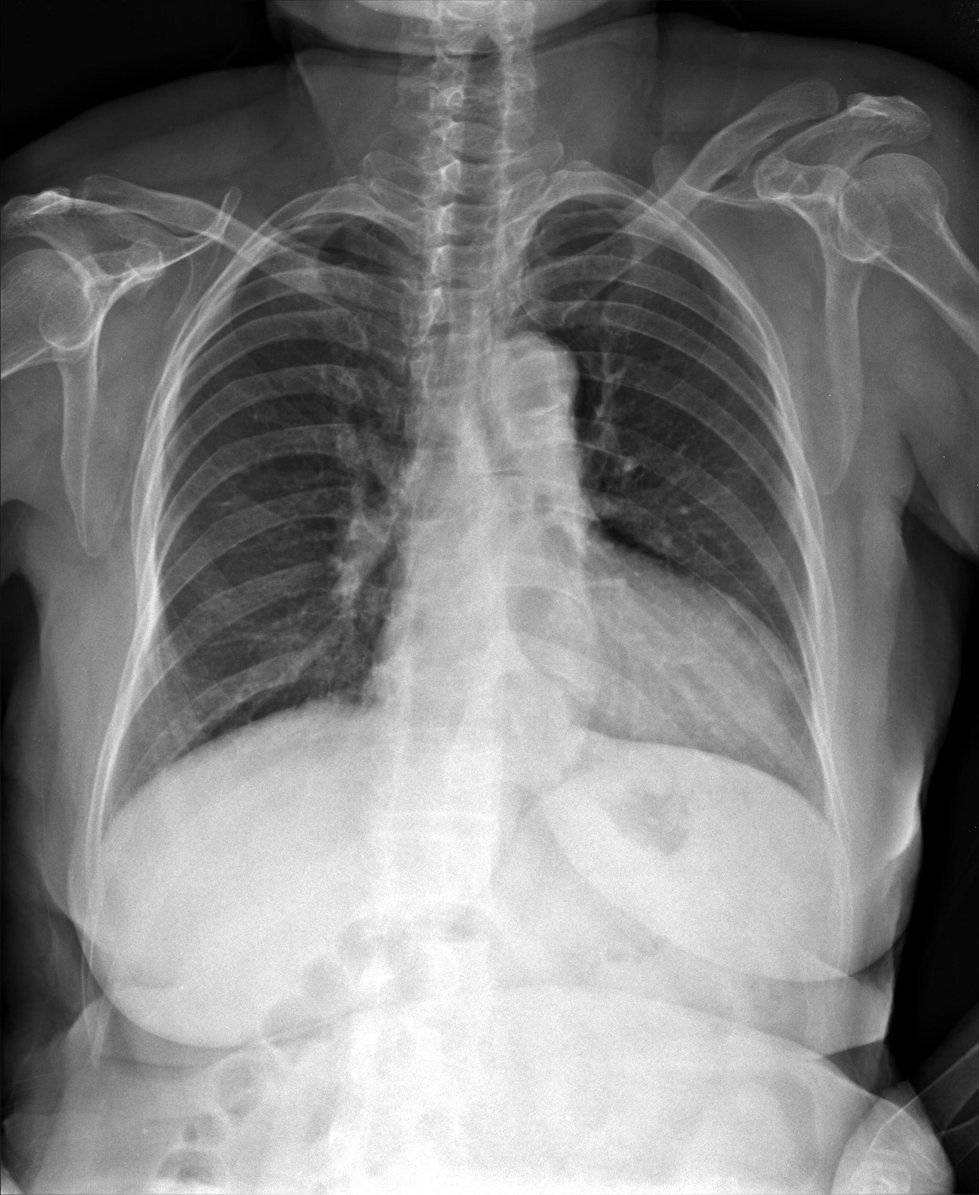Cardiomegaly: (358, 580, 815, 794)
Pleural thickening: (283, 210, 387, 229)
